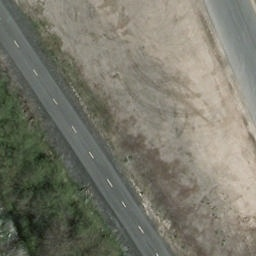car: (31, 0, 72, 3)
